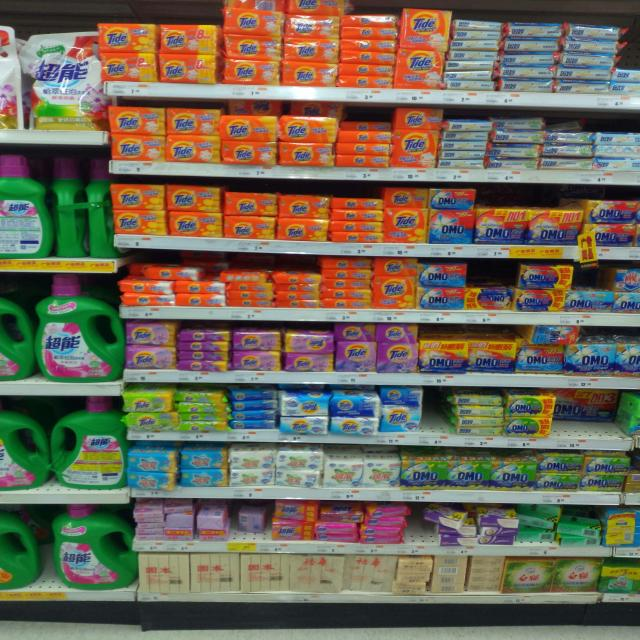unorganised: (50, 398, 126, 486), (55, 155, 111, 256), (520, 504, 601, 547), (273, 501, 411, 526), (552, 390, 620, 434), (422, 503, 520, 531), (280, 393, 380, 416), (141, 266, 269, 283), (281, 330, 335, 355), (237, 502, 267, 537), (527, 326, 579, 346), (381, 387, 423, 407), (593, 146, 640, 157), (161, 500, 195, 513)
